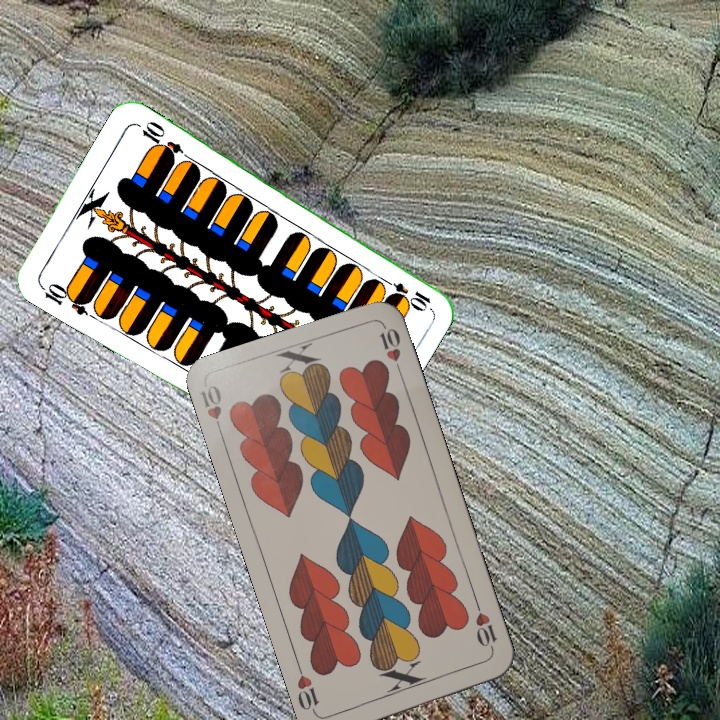E10: (36, 279, 93, 318), (377, 274, 434, 310)
H10: (196, 381, 226, 439), (471, 598, 499, 655)
